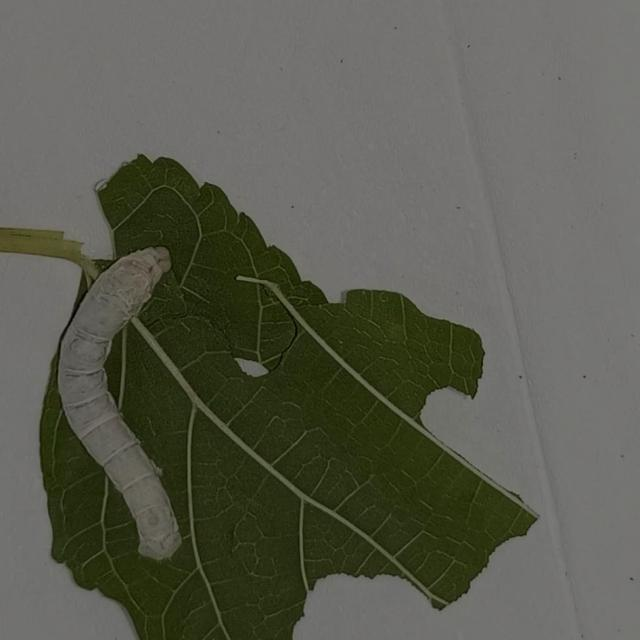Healthy: (42, 210, 230, 596)
